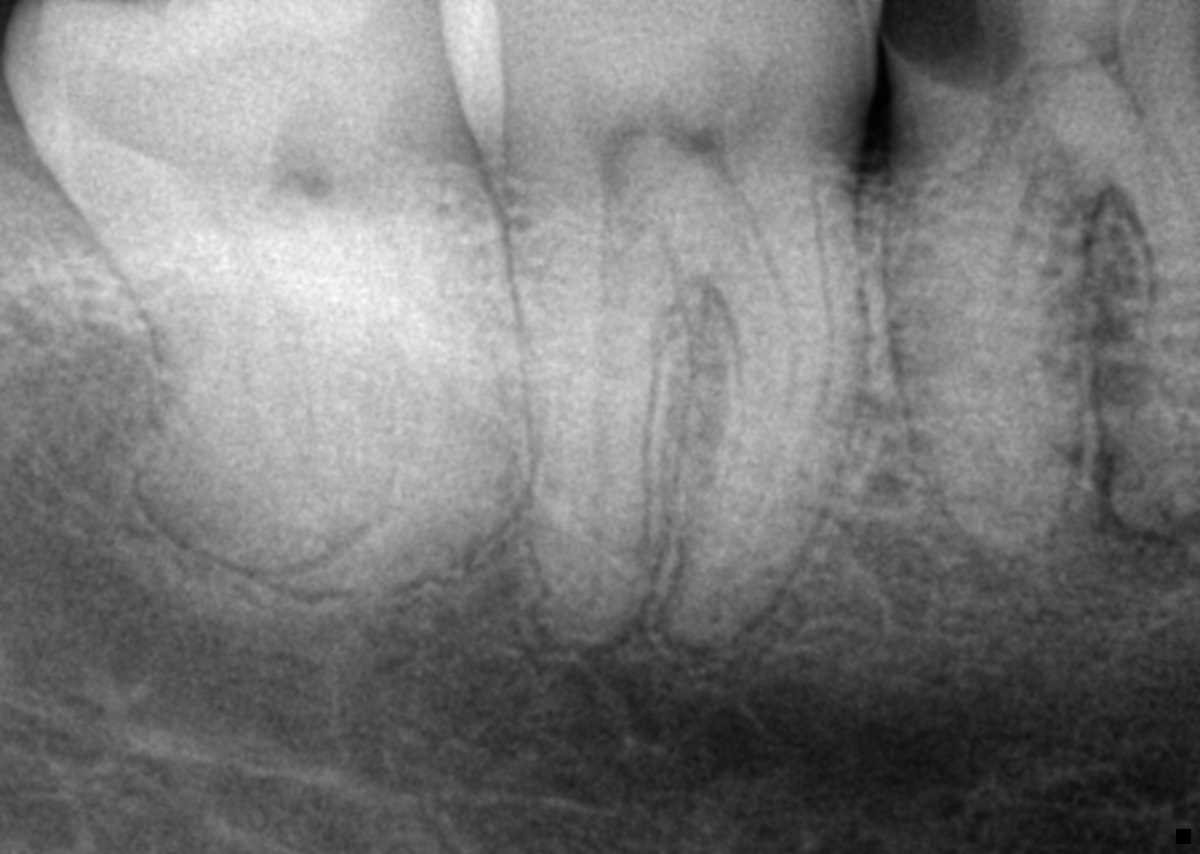Apical Lesion: (865, 469, 1175, 645)
Distal Canal: (590, 174, 626, 555)
Distal Root: (882, 155, 1104, 553), (519, 184, 698, 645)
Main Root: (86, 151, 530, 593)
Mesial Canal: (726, 170, 804, 506), (1129, 97, 1192, 192)
Mesial Root: (652, 195, 863, 654), (1106, 178, 1200, 532)
decay: (883, 0, 1025, 90)
